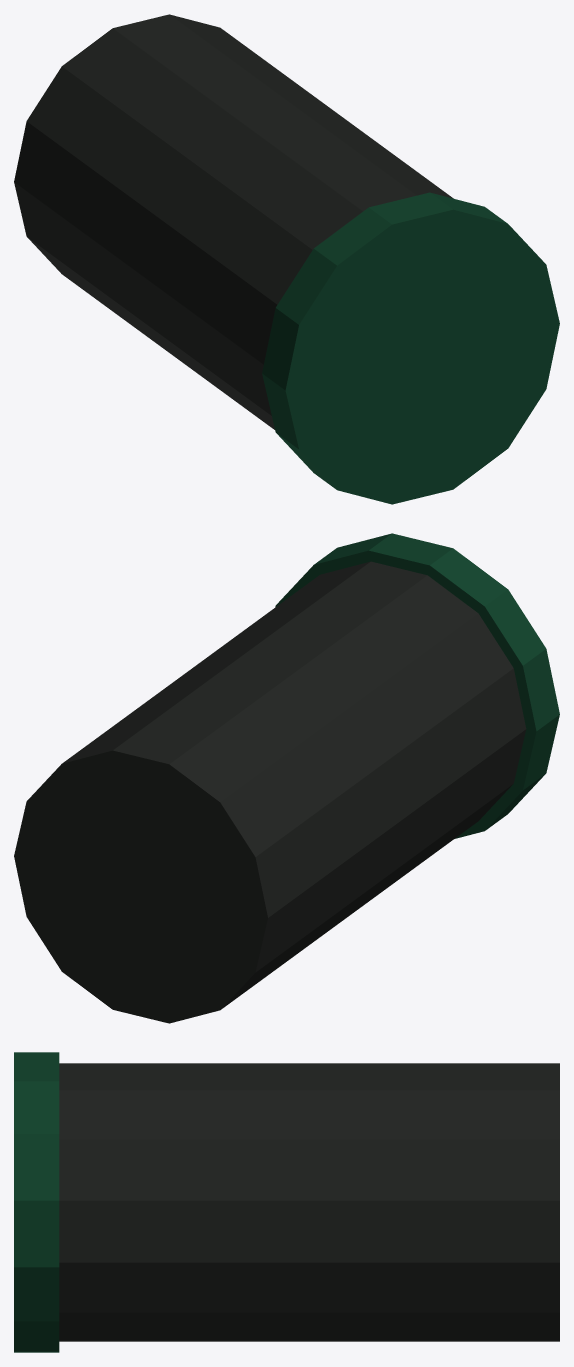
Rendered from litter_bin.obj.
3 views of the same model, one above another, from view 1: azimuth 30°, elevation 25°; view 2: azimuth 150°, elevation 25°; view 3: azimuth 270°, elevation 25° (orthographic). The views are drawn at different scales.
Visible parts, largest first — view 1: litter_bin; view 2: litter_bin; view 3: litter_bin.
Part boxes in pixels (x1,y1,x2,y2): litter_bin: (14, 14, 559, 504); litter_bin: (14, 533, 559, 1023); litter_bin: (14, 1052, 559, 1352).
Size of the model in its own units: 0.54 by 0.5265 by 0.96.
